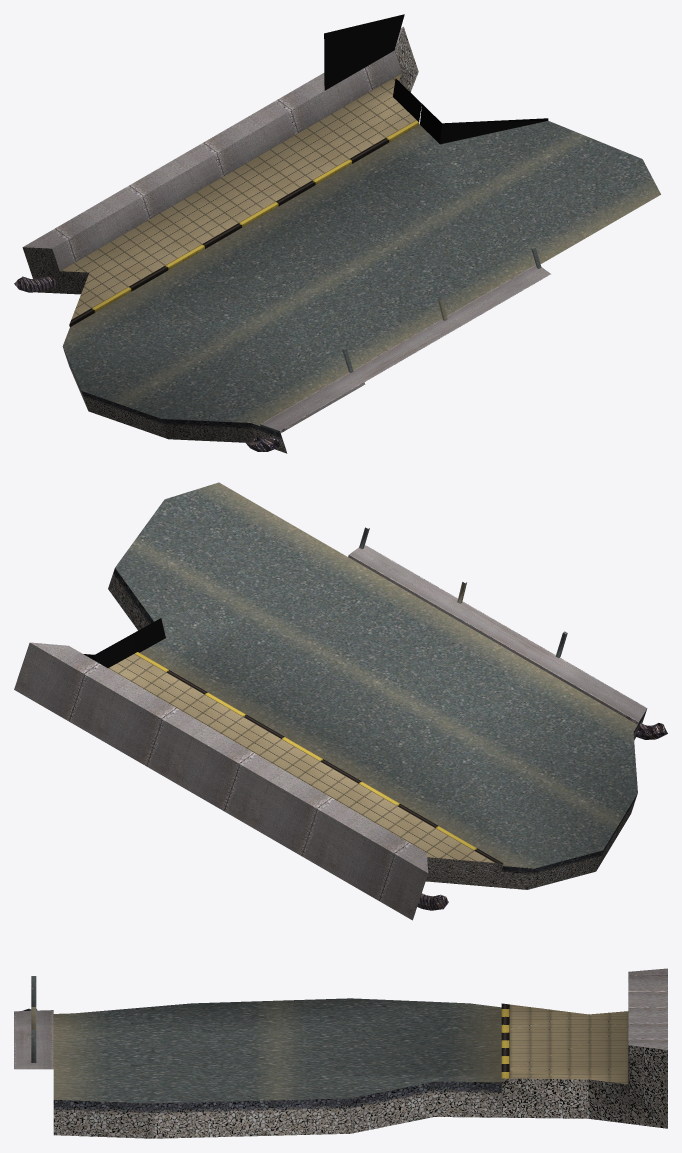
File: M2_Zone4_FlyOver6_D.glb
3 views of the same model, one above another, from view 1: azimuth 30°, elevation 25°; view 2: azimuth 150°, elevation 25°; view 3: azimuth 270°, elevation 25° (orthographic). The views are drawn at different scales.
Visible parts, largest first — view 1: M2_ZONE4_FLYOVER6_D; view 2: M2_ZONE4_FLYOVER6_D; view 3: M2_ZONE4_FLYOVER6_D.
Boxes of the visible parts, x1=… form: M2_ZONE4_FLYOVER6_D: x1=14, y1=14, x2=660, y2=453; M2_ZONE4_FLYOVER6_D: x1=14, y1=482, x2=667, y2=920; M2_ZONE4_FLYOVER6_D: x1=14, y1=968, x2=667, y2=1138.
Size of the model in its own units: 20.27 by 8.72 by 16.5.
Materials: 9 (8 with a texture image).
